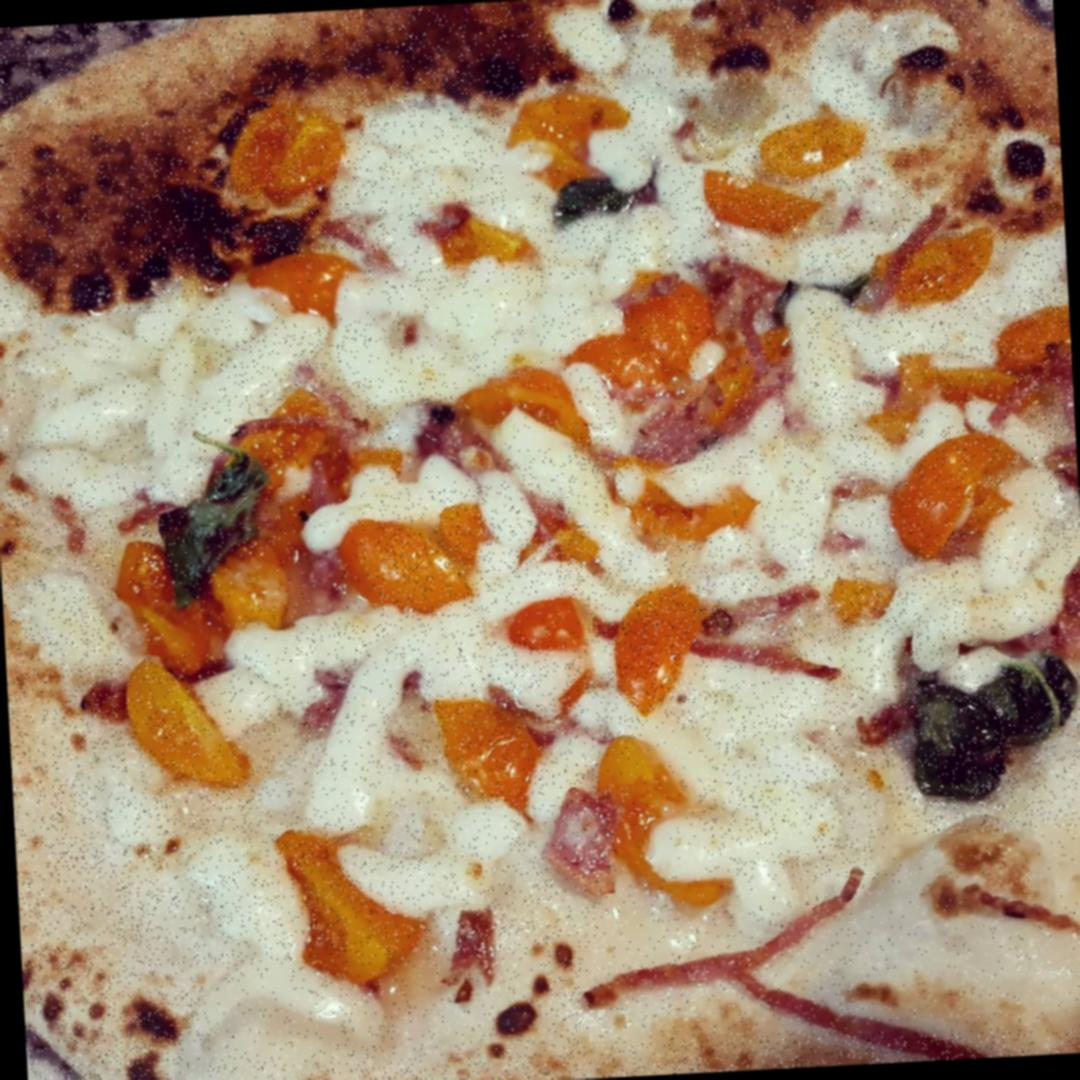Basil: (903, 656, 1080, 802), (132, 450, 292, 593)
Cheese: (693, 673, 911, 876), (873, 826, 1080, 1037), (195, 947, 549, 1069), (3, 310, 222, 487), (109, 778, 290, 980), (266, 634, 446, 824), (356, 283, 564, 382), (421, 806, 577, 926), (624, 56, 708, 264), (769, 444, 890, 564), (811, 292, 996, 366), (370, 106, 503, 204)
Ham: (576, 873, 996, 1046), (606, 248, 814, 452), (219, 426, 381, 628), (680, 581, 860, 683), (964, 554, 1080, 659), (398, 403, 502, 489), (542, 785, 616, 884)
Pizza: (0, 0, 1080, 1080)
Tomatoes: (271, 821, 427, 990), (596, 730, 736, 916), (114, 534, 291, 658), (883, 430, 1035, 560), (121, 652, 253, 794), (565, 274, 718, 395), (340, 516, 486, 614), (505, 91, 632, 196), (234, 414, 366, 514), (436, 696, 542, 817), (611, 586, 709, 714), (226, 104, 346, 204), (606, 470, 761, 542), (228, 251, 366, 330), (454, 371, 574, 461), (880, 360, 1020, 432), (868, 228, 995, 306), (700, 162, 824, 238), (421, 201, 538, 272), (986, 303, 1072, 373), (758, 110, 864, 166), (496, 598, 589, 647)
